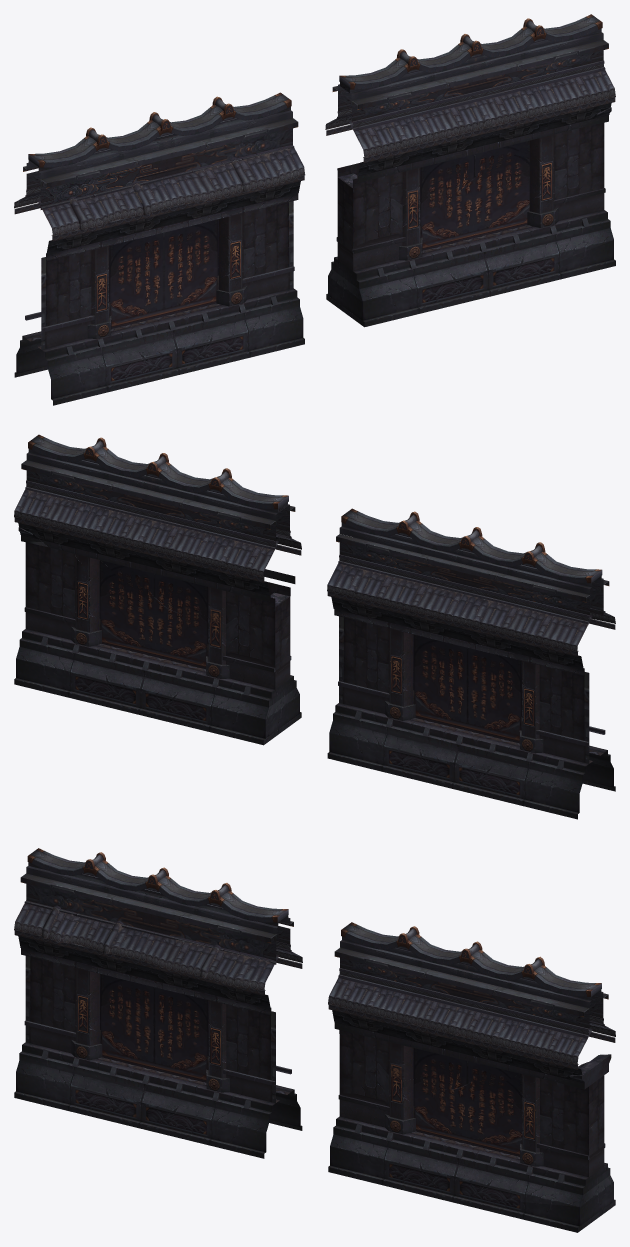
File: 2_BTT_PinJieQiang_01.FBX
3 views of the same model, one above another, from view 1: azimuth 30°, elevation 25°; view 2: azimuth 150°, elevation 25°; view 3: azimuth 330°, elevation 25° (orthographic).
Parts seen in each view (by area): view 1: 2_BTT_PinJieQiang_01, 2_BTT_PoPinJieQiang_01_02, 2_BTT_PoPinJieQiang_01_01; view 2: 2_BTT_PinJieQiang_01, 2_BTT_PoPinJieQiang_01_02, 2_BTT_PoPinJieQiang_01_01; view 3: 2_BTT_PinJieQiang_01, 2_BTT_PoPinJieQiang_01_02, 2_BTT_PoPinJieQiang_01_01.
Boxes of the visible parts, x1=… form: 2_BTT_PinJieQiang_01: x1=14, y1=92, x2=305, y2=405; 2_BTT_PoPinJieQiang_01_02: x1=326, y1=107, x2=615, y2=327; 2_BTT_PoPinJieQiang_01_01: x1=325, y1=14, x2=615, y2=205; 2_BTT_PinJieQiang_01: x1=327, y1=508, x2=615, y2=819; 2_BTT_PoPinJieQiang_01_02: x1=14, y1=527, x2=301, y2=745; 2_BTT_PoPinJieQiang_01_01: x1=14, y1=434, x2=301, y2=623; 2_BTT_PinJieQiang_01: x1=14, y1=848, x2=302, y2=1158; 2_BTT_PoPinJieQiang_01_02: x1=328, y1=1034, x2=615, y2=1232; 2_BTT_PoPinJieQiang_01_01: x1=328, y1=922, x2=615, y2=1089.
Bounding box in the file's own units: 2386 × 989 × 325.
Materials: 2 (2 with a texture image).
